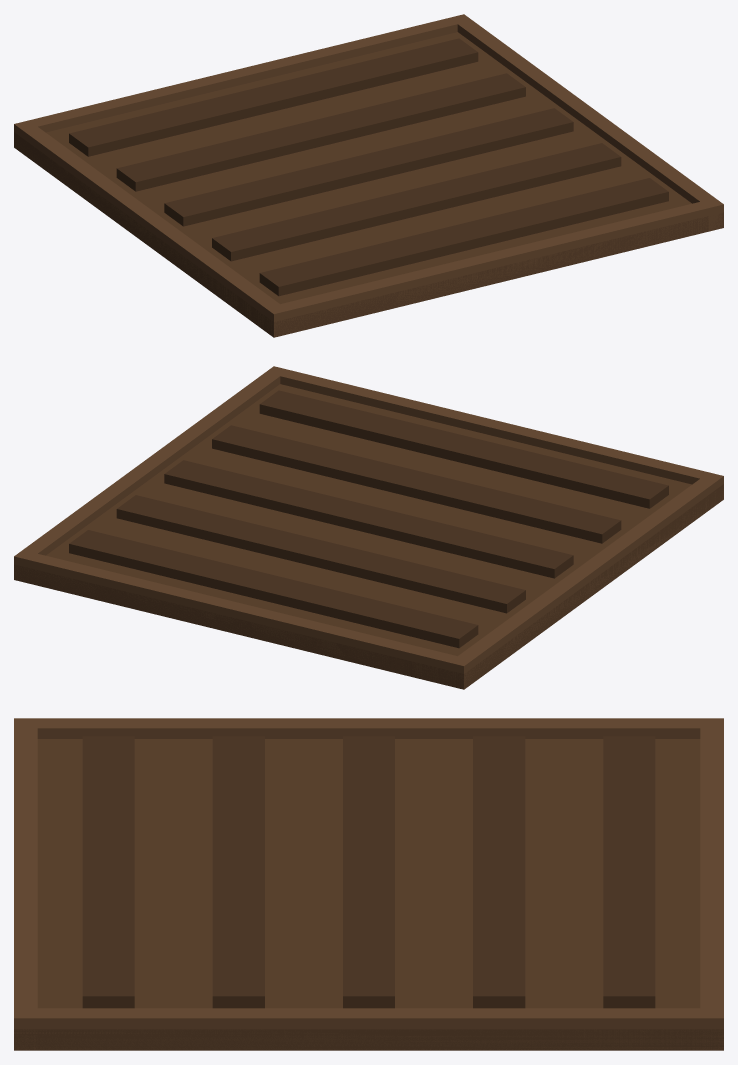
Rendered from crop_plot.glb.
The picture shows the model from 3 angles, top to bottom: view 1: azimuth 30°, elevation 25°; view 2: azimuth 150°, elevation 25°; view 3: azimuth 270°, elevation 25°; orthographic projection. The views are drawn at different scales.
Parts seen in each view (by area): view 1: Plot; view 2: Plot; view 3: Plot.
Boxes of the visible parts, x1=… form: Plot: x1=14, y1=14, x2=723, y2=337; Plot: x1=14, y1=366, x2=723, y2=689; Plot: x1=14, y1=718, x2=723, y2=1050.
Size of the model in its own units: 3 by 0.16 by 3.
